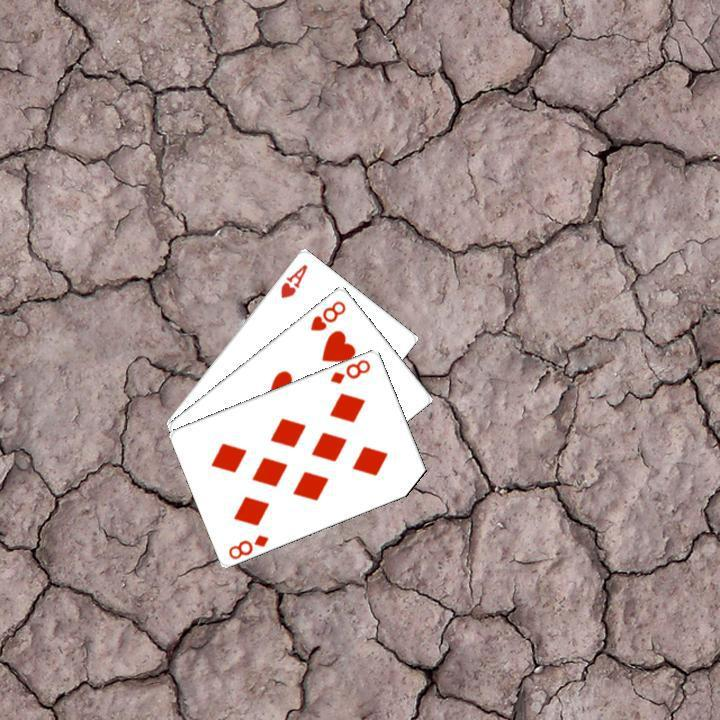8: (306, 296, 348, 333), (326, 355, 373, 386), (224, 530, 271, 561)
A: (276, 259, 310, 300)
